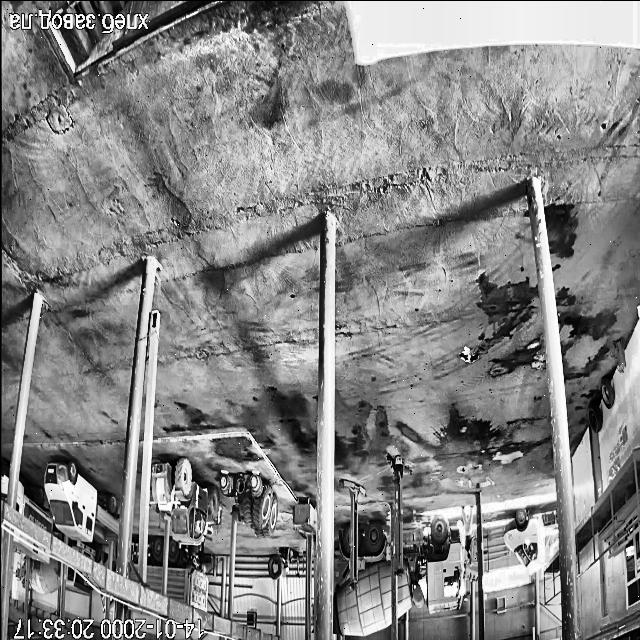class4: (462, 507, 472, 559), (196, 541, 204, 571)
class6: (151, 458, 221, 544), (220, 475, 278, 537)
class7: (396, 516, 476, 616), (334, 522, 392, 636), (44, 460, 118, 540), (504, 508, 558, 573), (167, 539, 208, 610), (16, 483, 52, 532), (29, 559, 60, 594), (146, 537, 164, 591), (12, 538, 48, 563), (69, 543, 106, 563), (66, 567, 92, 595), (0, 463, 8, 500), (132, 542, 140, 564), (18, 564, 24, 587), (130, 565, 136, 580)
truck: (387, 454, 410, 574), (340, 479, 365, 588)
